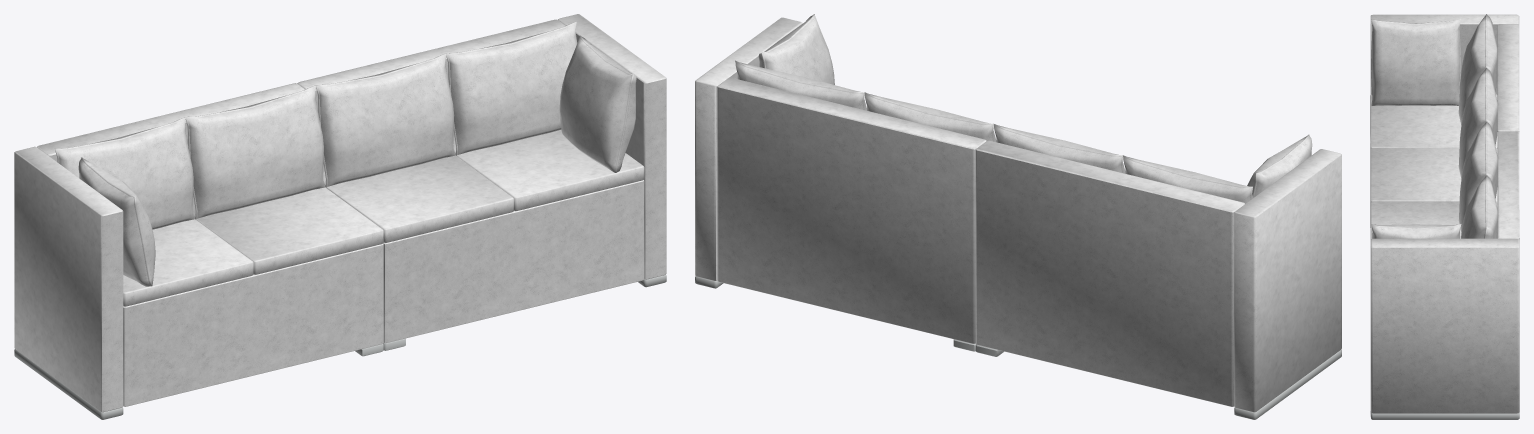
Rendered from Sofa07_2.FBX.
3 renders of one model, left to right at view 1: azimuth 30°, elevation 25°; view 2: azimuth 150°, elevation 25°; view 3: azimuth 270°, elevation 25°, orthographic. The views are drawn at different scales.
Parts seen in each view (by area): view 1: Sofa07_2; view 2: Sofa07_2; view 3: Sofa07_2.
Boxes of the visible parts, x1,y1,x2,y2 form: Sofa07_2: (14, 14, 666, 419); Sofa07_2: (695, 14, 1341, 419); Sofa07_2: (1370, 14, 1519, 419).
Size of the model in its own units: 311 by 114 by 84.21.
